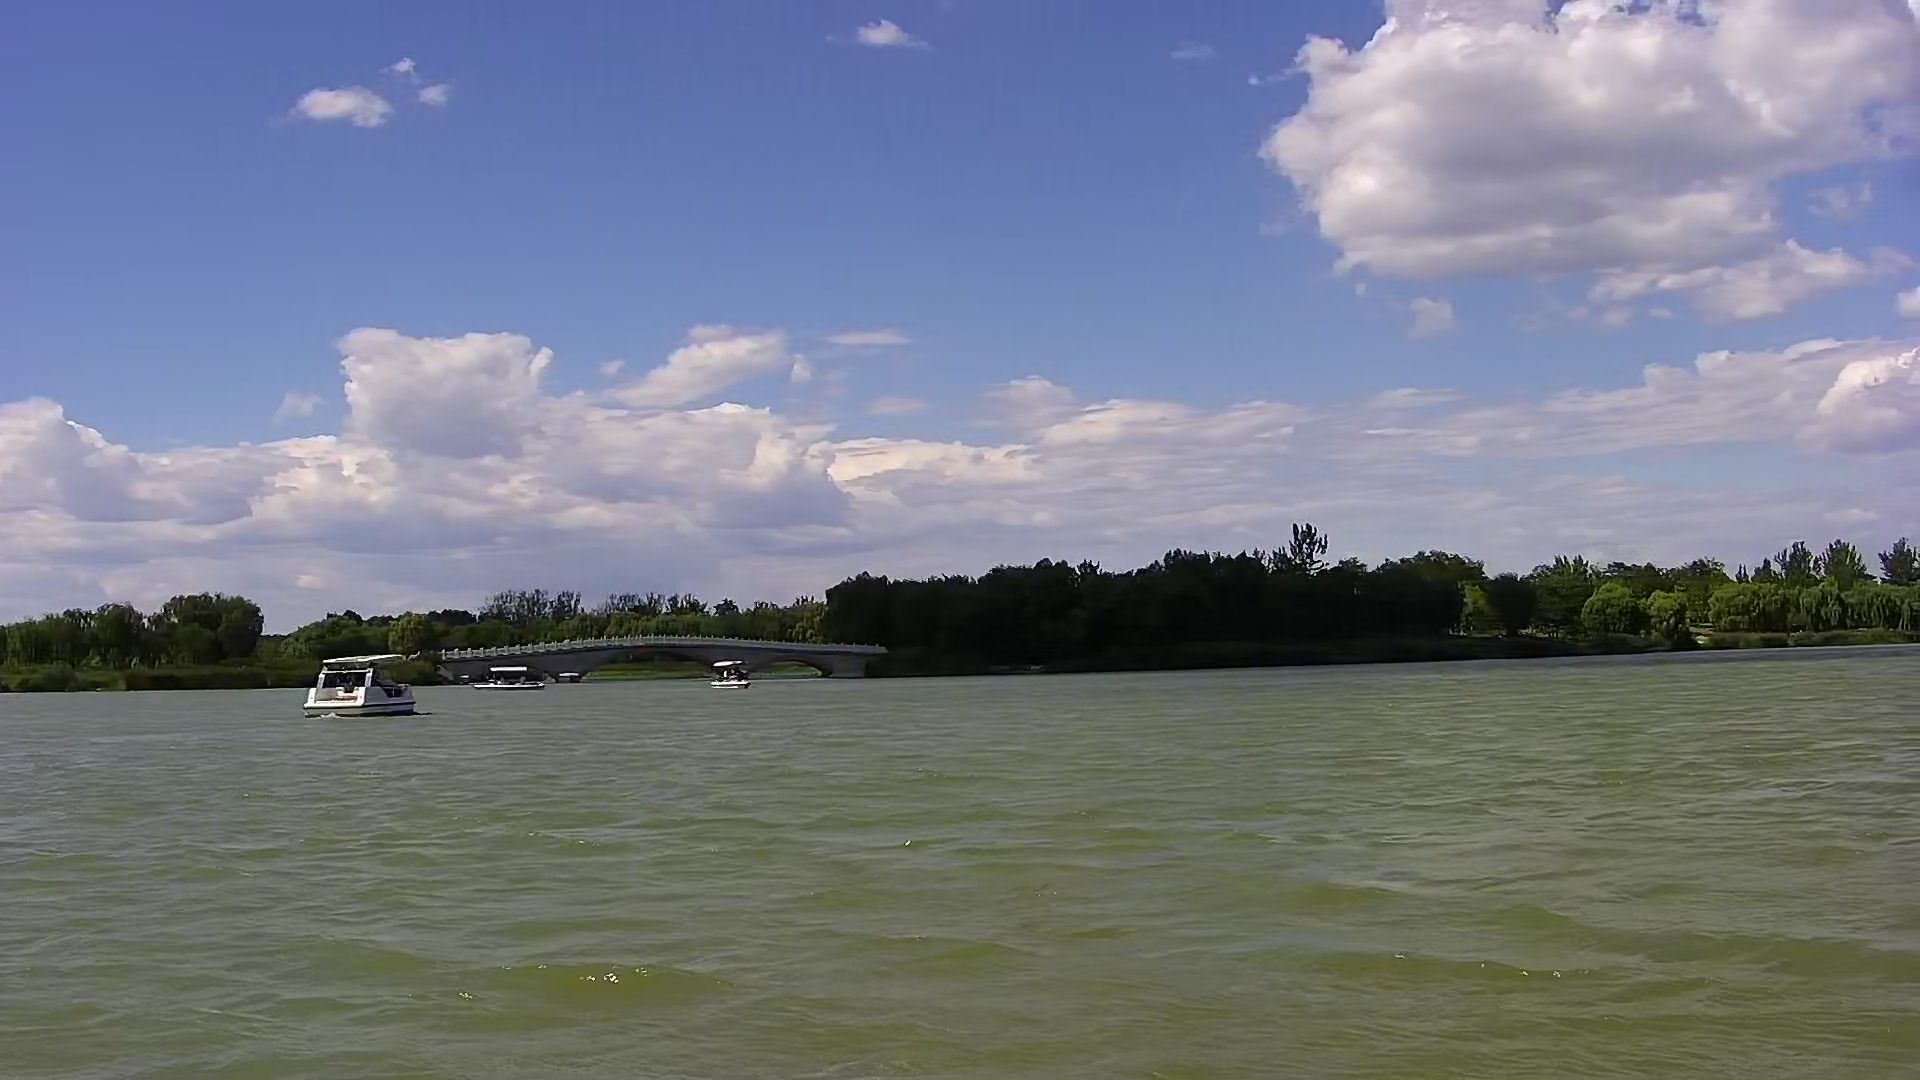boat: (295, 651, 427, 728), (463, 659, 547, 696), (702, 654, 757, 692)
bridge: (440, 634, 891, 688)
